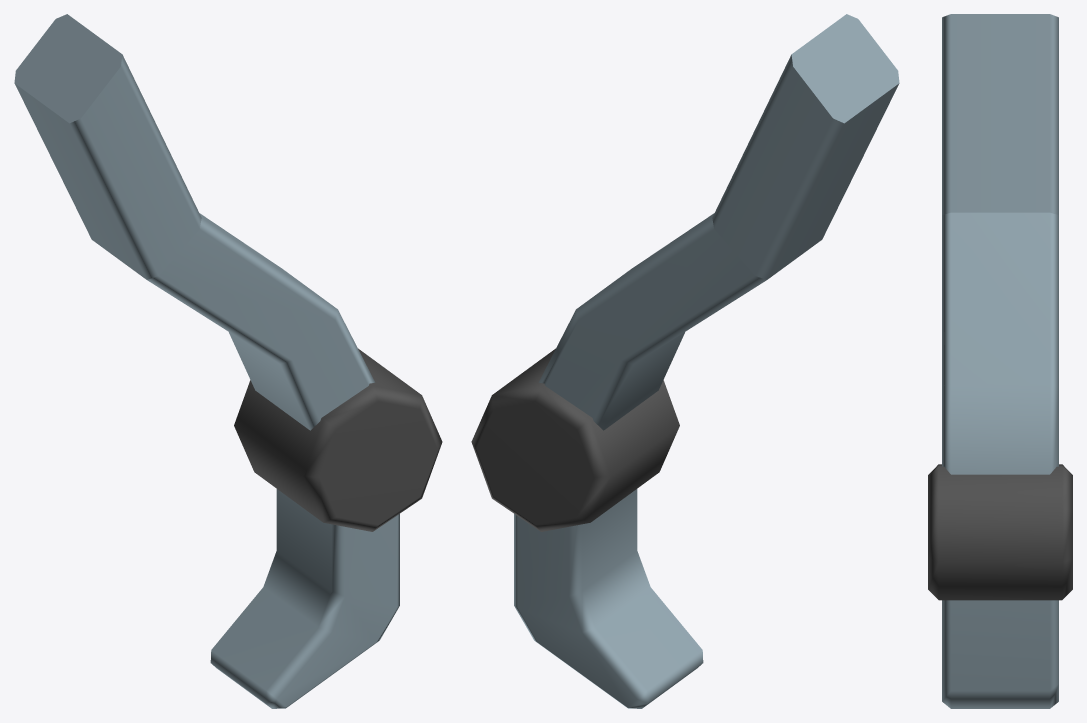
File: droneholder_003.fbx
3 renders of one model, left to right at view 1: azimuth 30°, elevation 25°; view 2: azimuth 150°, elevation 25°; view 3: azimuth 270°, elevation 25°, orthographic. The views are drawn at different scales.
Visible parts, largest first — view 1: droneholder_003; view 2: droneholder_003; view 3: droneholder_003.
Boxes of the visible parts, <box> form: droneholder_003: <box>14,14,442,708</box>; droneholder_003: <box>471,14,899,708</box>; droneholder_003: <box>928,14,1072,708</box>.
Bounding box in the file's own units: 126 × 48.16 × 229.
